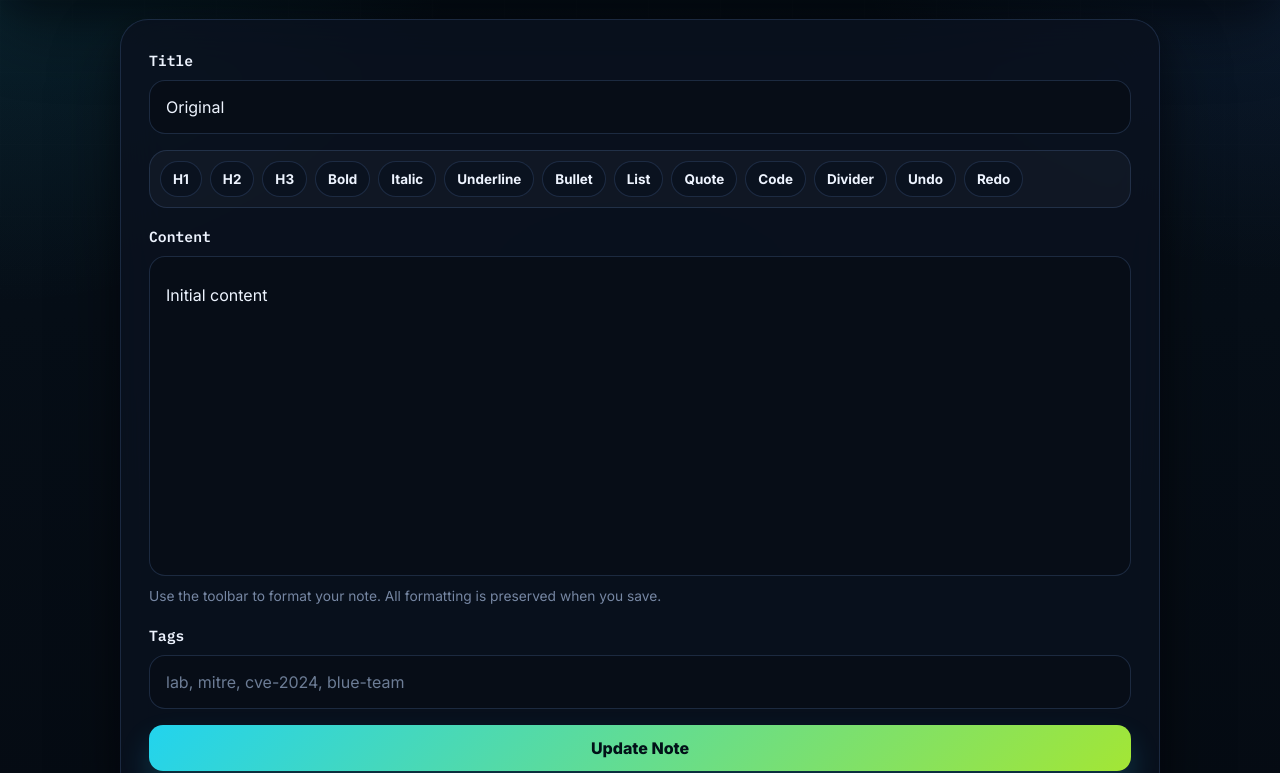
Test: EditNotePage component › shows update error state when save fails
(page scrolled)
Expected: the field showing "Original" is shown, [149, 80, 1131, 134]
Click the button "Update Note" at point(640, 748), box [149, 725, 1131, 771]
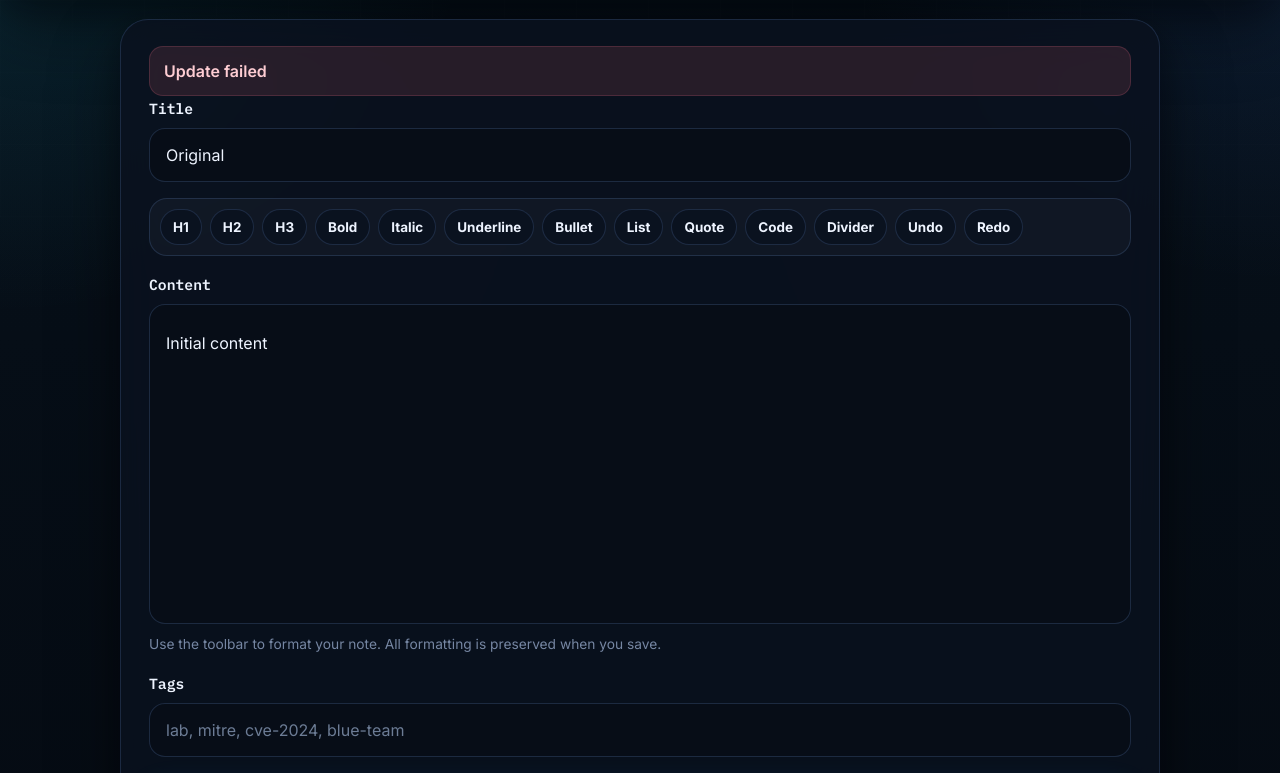
Expected: the message reads "Update failed", [164, 61, 267, 81]
